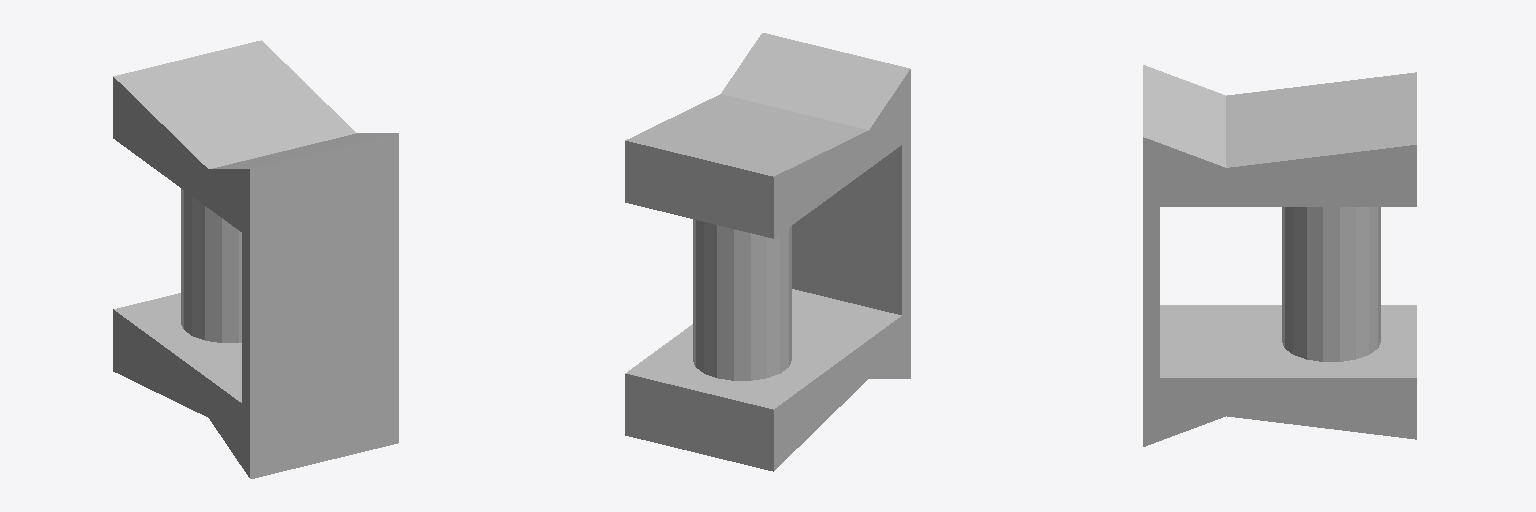
The model's file is platypous-Wheel_HolderWheel_holder.obj.
The picture shows the model from 3 angles: view 1: azimuth 30°, elevation 25°; view 2: azimuth 150°, elevation 25°; view 3: azimuth 270°, elevation 25°; orthographic projection.
Parts seen in each view (by area): view 1: Wheel_holder; view 2: Wheel_holder; view 3: Wheel_holder.
Boxes of the visible parts, x1=… form: Wheel_holder: x1=113, y1=40, x2=398, y2=478; Wheel_holder: x1=625, y1=33, x2=910, y2=471; Wheel_holder: x1=1143, y1=65, x2=1416, y2=446.
Size of the model in its own units: 50 by 100 by 80.